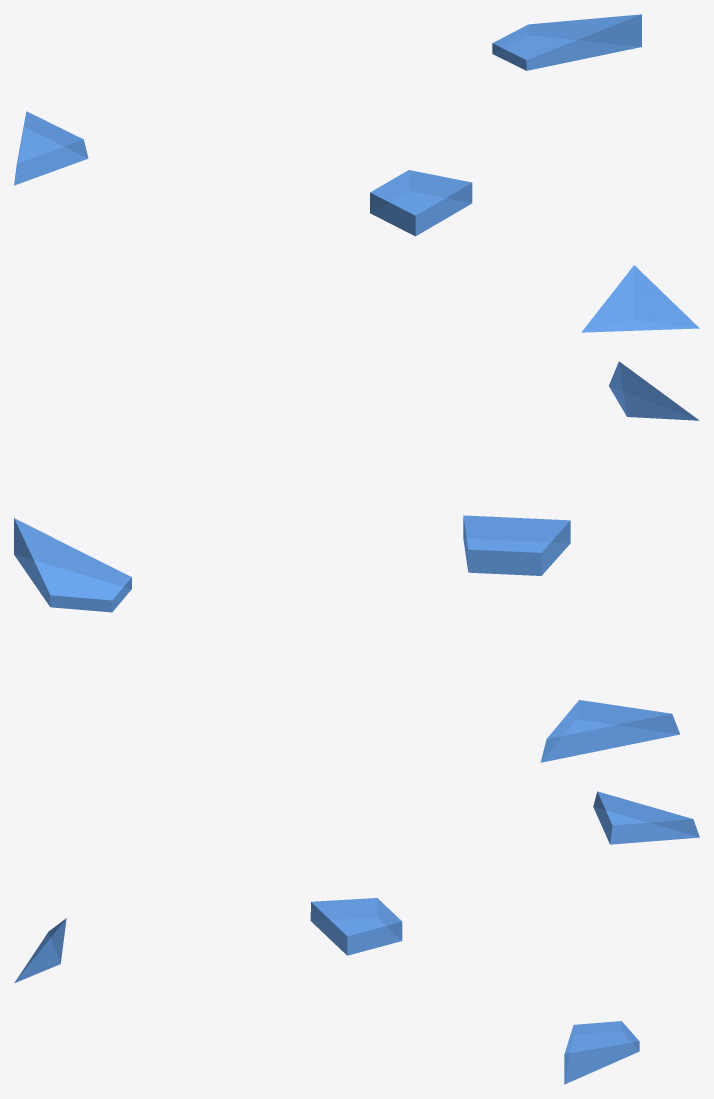
File: Crystals_s_02.fbx
3 views of the same model, one above another, from view 1: azimuth 30°, elevation 25°; view 2: azimuth 150°, elevation 25°; view 3: azimuth 270°, elevation 25° (orthographic). The views are drawn at different scales.
Visible parts, largest first — view 1: Crystals_s_02; view 2: Crystals_s_02; view 3: Crystals_s_02.
Part boxes in pixels (box(x1,y1,x2,y2)): Crystals_s_02: box(14, 14, 699, 332); Crystals_s_02: box(14, 361, 699, 762); Crystals_s_02: box(14, 791, 699, 1084).
Size of the model in its own units: 86.96 by 7.06 by 90.56.
